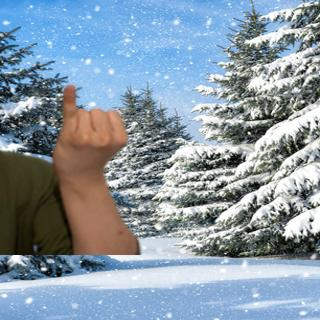FINE: (49, 82, 132, 189)
